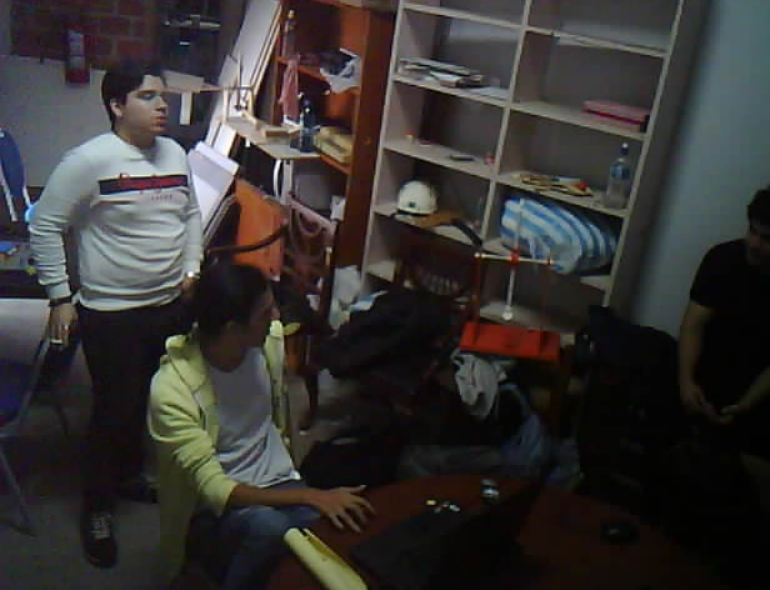person: (15, 39, 214, 573), (134, 249, 401, 590), (666, 143, 770, 559)
